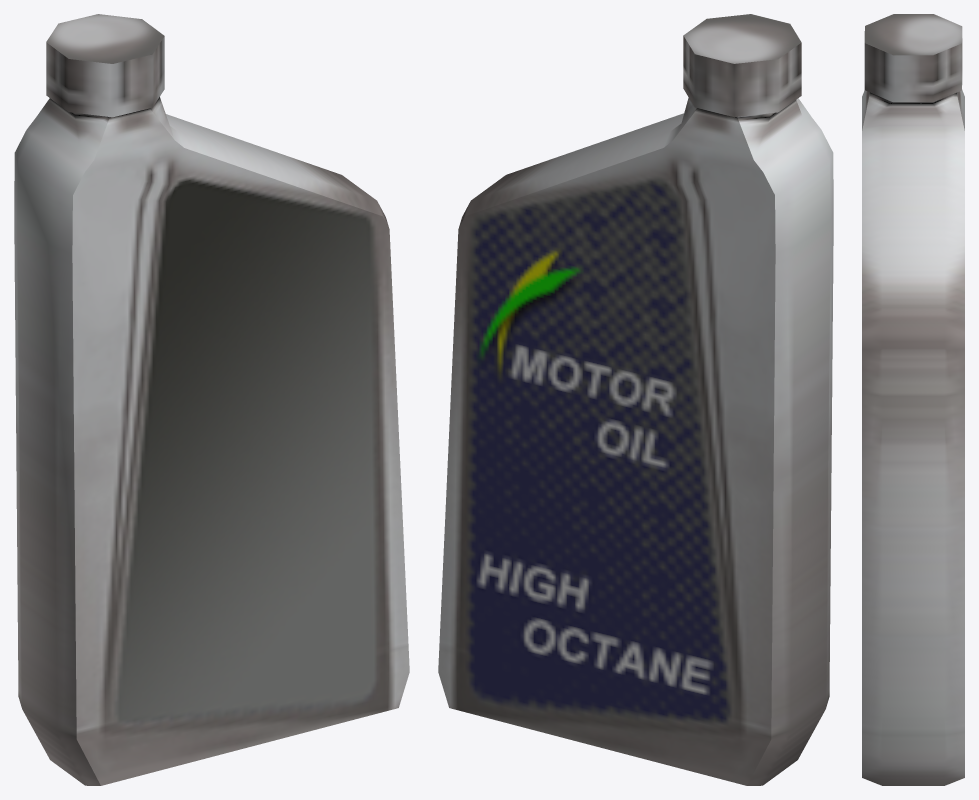
Rendered from oil.fbx.
The picture shows the model from 3 angles, left to right: view 1: azimuth 30°, elevation 25°; view 2: azimuth 150°, elevation 25°; view 3: azimuth 270°, elevation 25°; orthographic projection. The views are drawn at different scales.
Visible parts, largest first — view 1: oil; view 2: oil; view 3: oil.
Boxes of the visible parts, x1,y1,x2,y2 form: oil: (14, 14, 409, 785); oil: (438, 14, 833, 785); oil: (862, 14, 964, 785).
Size of the model in its own units: 0.2061 by 0.4037 by 0.0588.
